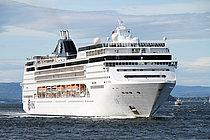Ship: (18, 17, 182, 122)
